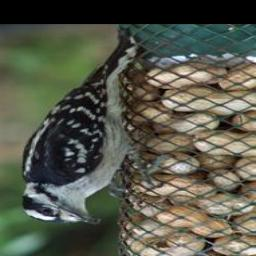Woodpecker: (3, 30, 168, 228)
